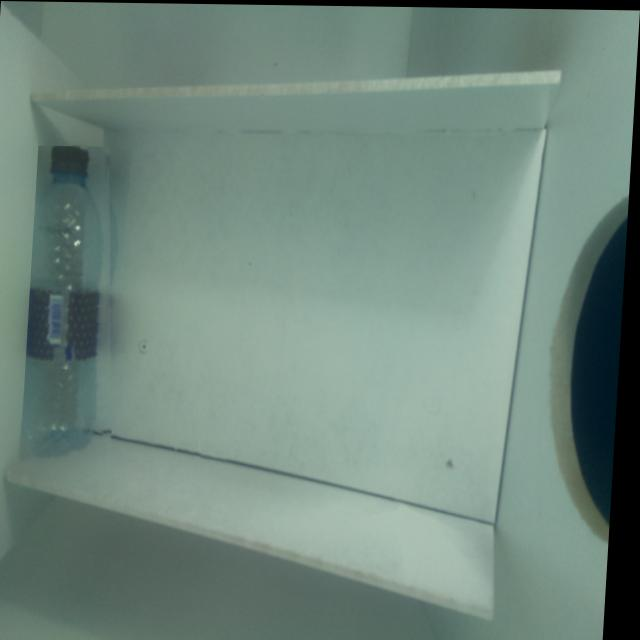litter: (24, 145, 131, 469)
